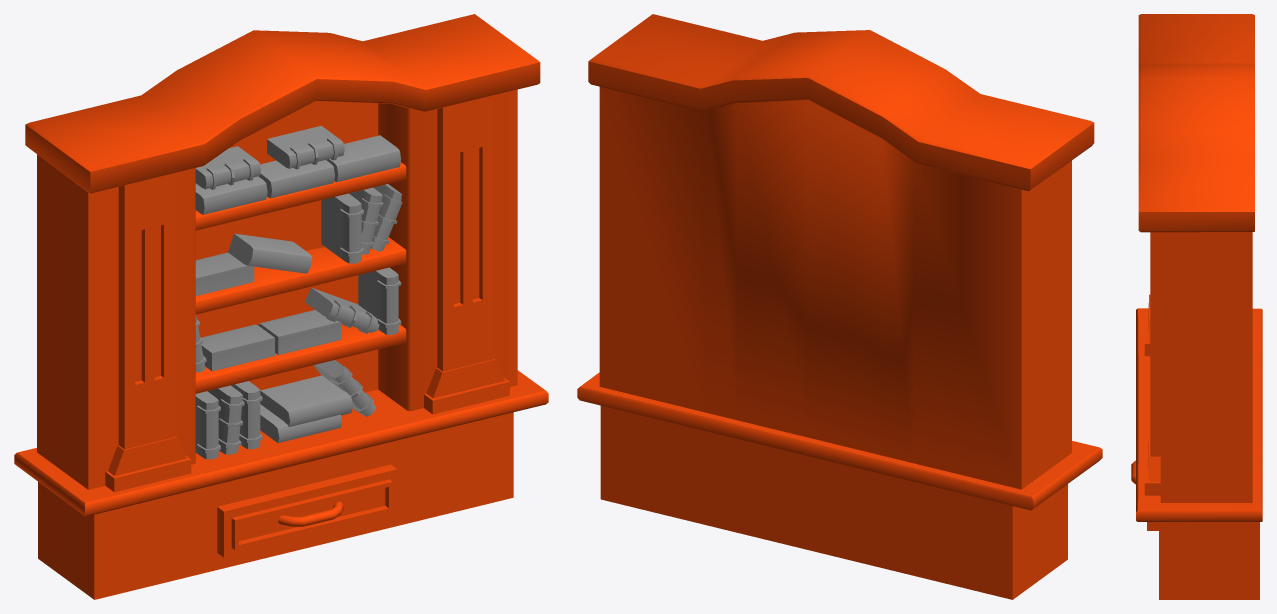
File: Bookshelf.FBX
3 views of the same model, side by side, from view 1: azimuth 30°, elevation 25°; view 2: azimuth 150°, elevation 25°; view 3: azimuth 270°, elevation 25° (orthographic). The views are drawn at different scales.
Visible parts, largest first — view 1: BookShelf, Books; view 2: BookShelf; view 3: BookShelf.
Part boxes in pixels (x1,y1,x2,y2): BookShelf: [14, 14, 548, 599]; Books: [195, 125, 402, 459]; BookShelf: [577, 14, 1102, 599]; BookShelf: [1131, 14, 1262, 599].
Bounding box in the file's own units: 6.23 × 6.16 × 1.7.
